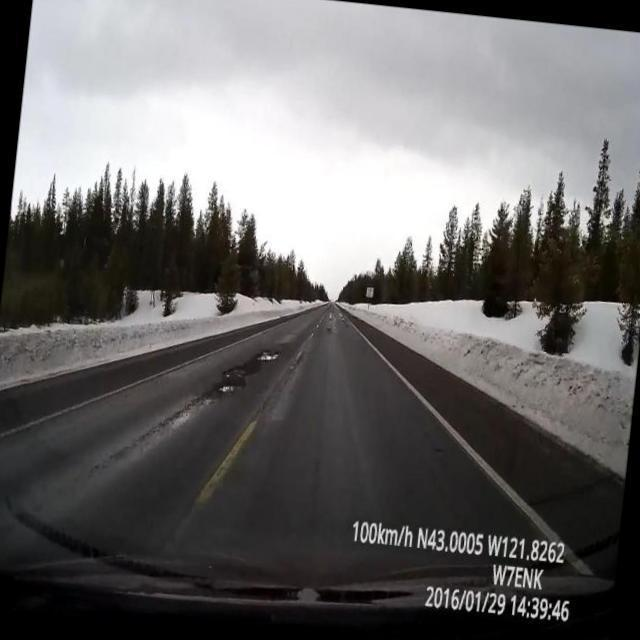Pothole: (255, 350, 279, 362), (218, 384, 236, 393)
